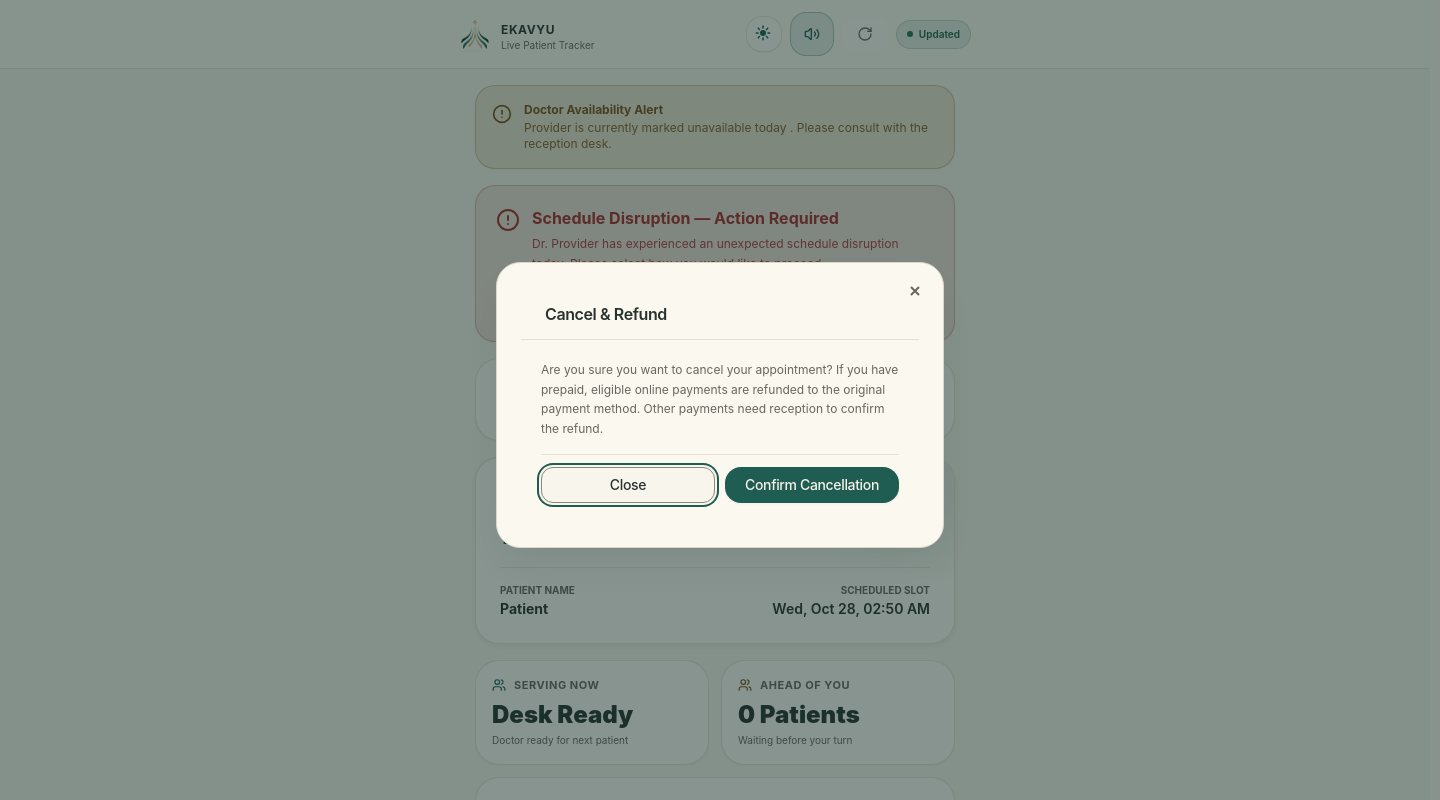
Test: reports the server's pending result without promising an unprocessed refund
Click the button "Confirm Cancellation" at (812, 485), box [725,467,899,503]
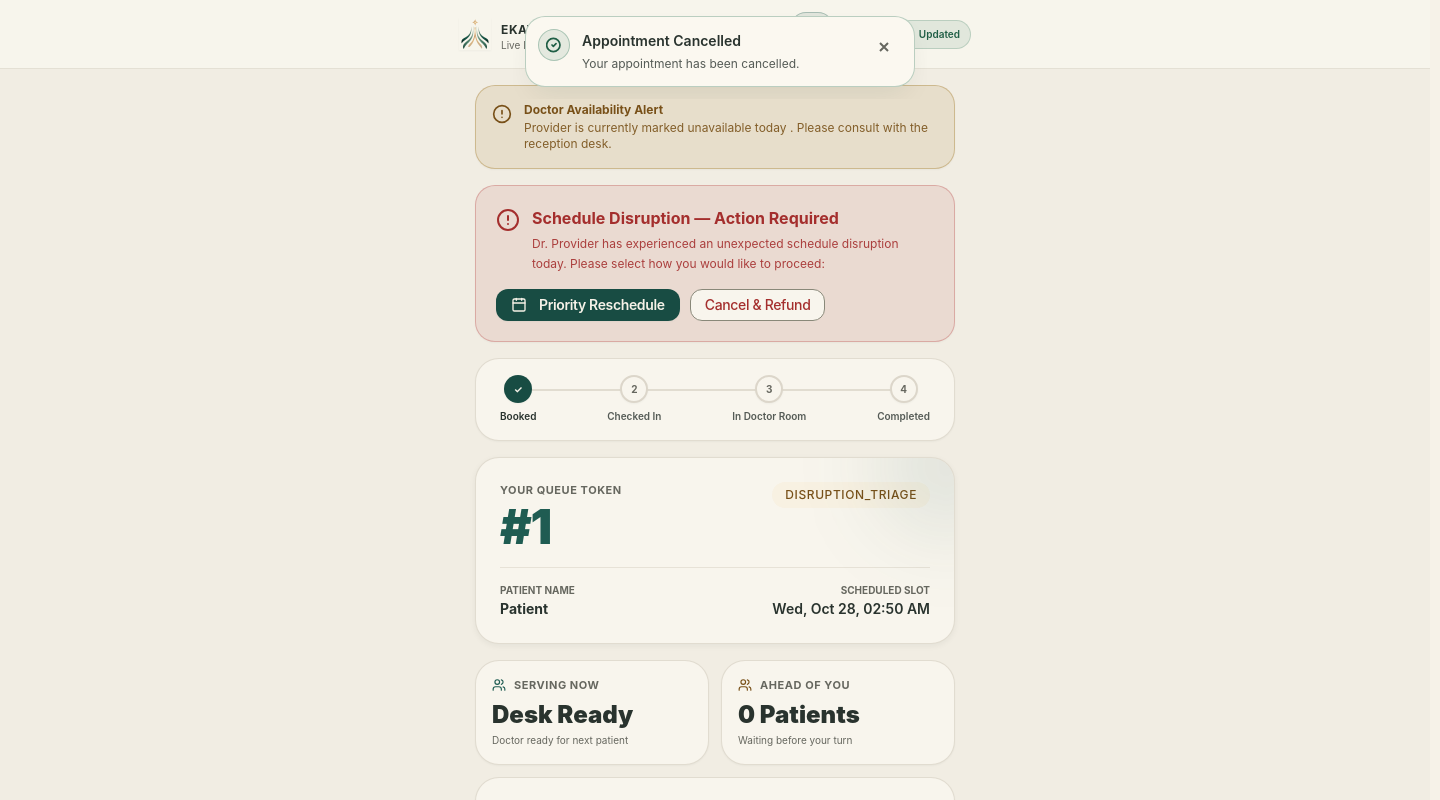
Expected: the text "Your appointment has been cancelled." is shown, [582,56,800,71]
